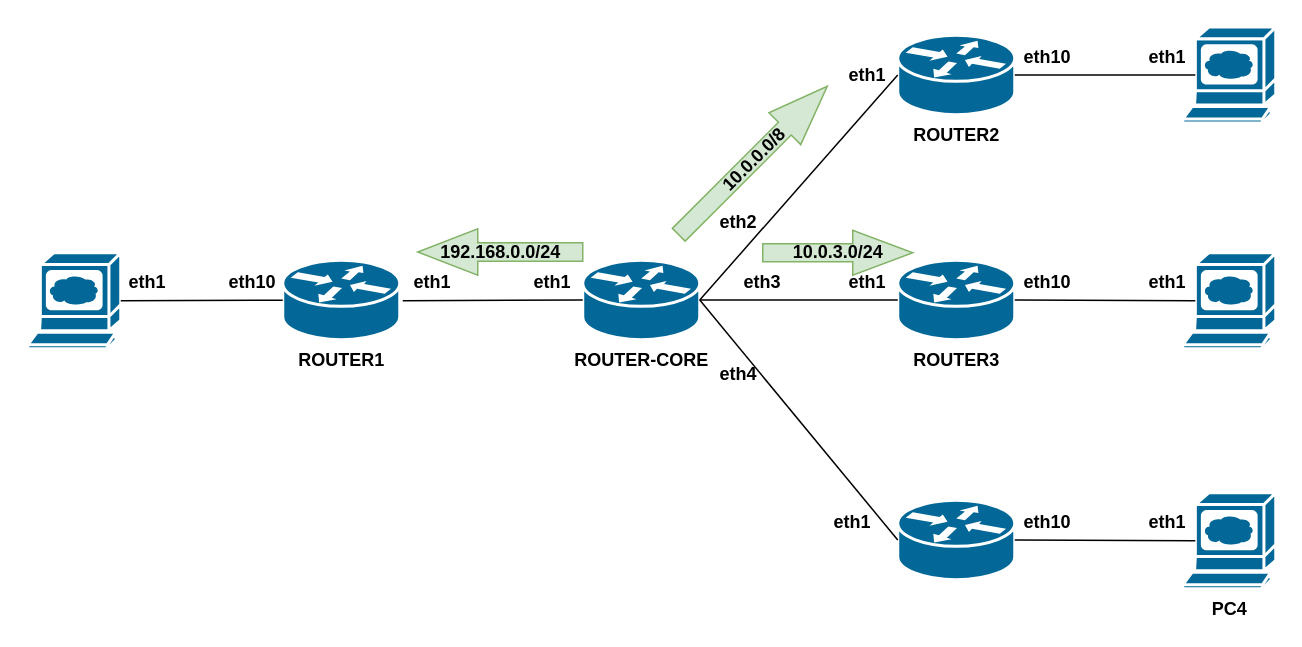
The diagram is 1302 pixels wide and 647 high, and some of its shapes have lost their labels. The shapes that lost their labels are listed below. From the top down, each one's centre as x and y in pixels, then its label:
At point (1228, 74): "PC2".
At point (74, 300): "PC1".
At point (1228, 300): "PC3".
At point (956, 539): "ROUTER4".
